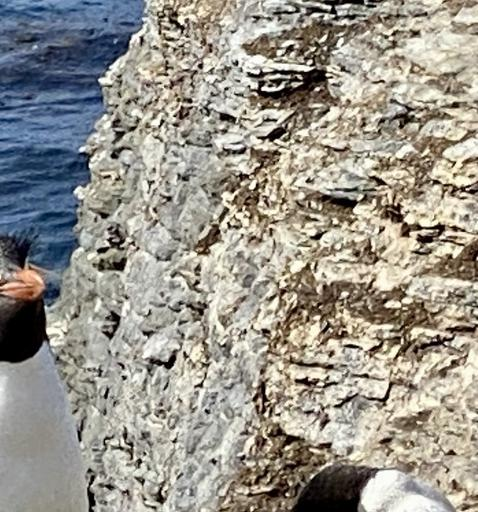Southern Rockhopper Penguin: (0, 202, 162, 512), (260, 434, 478, 512)
